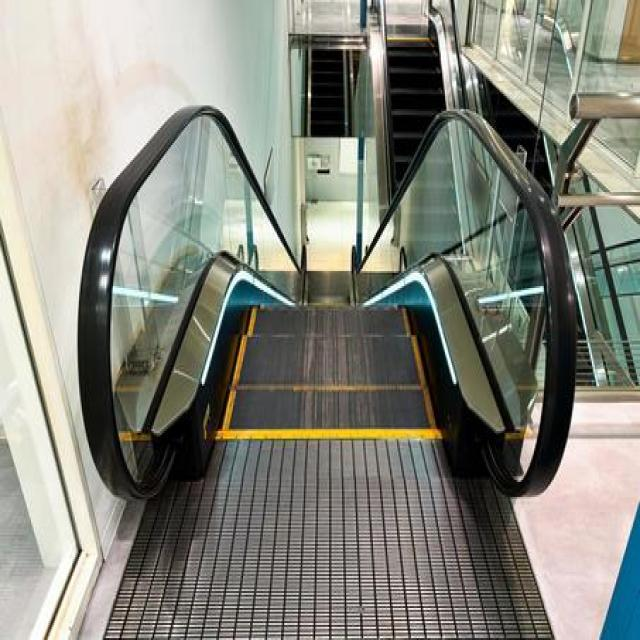escalator: (63, 90, 604, 638)
